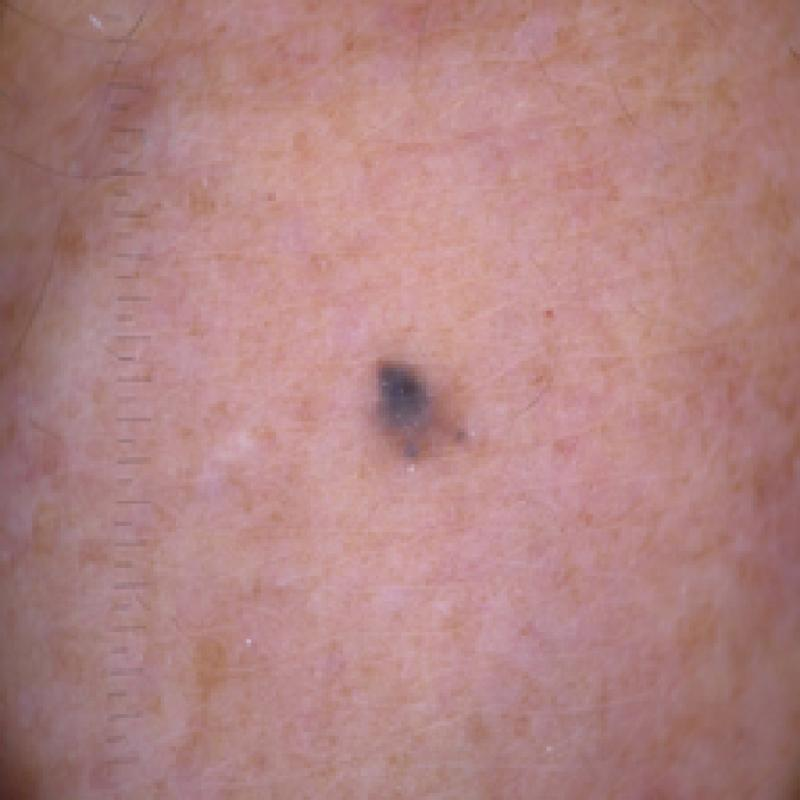benign: (340, 315, 486, 483)
